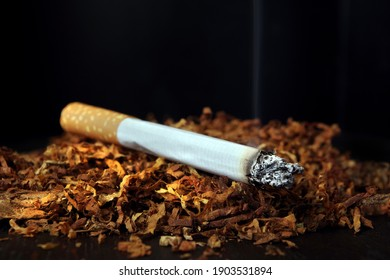cigarette: (54, 96, 306, 194)
